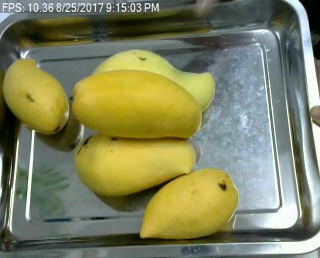Mango: (71, 69, 204, 140), (77, 132, 200, 198), (99, 49, 217, 116), (141, 166, 239, 245), (3, 56, 71, 137)
